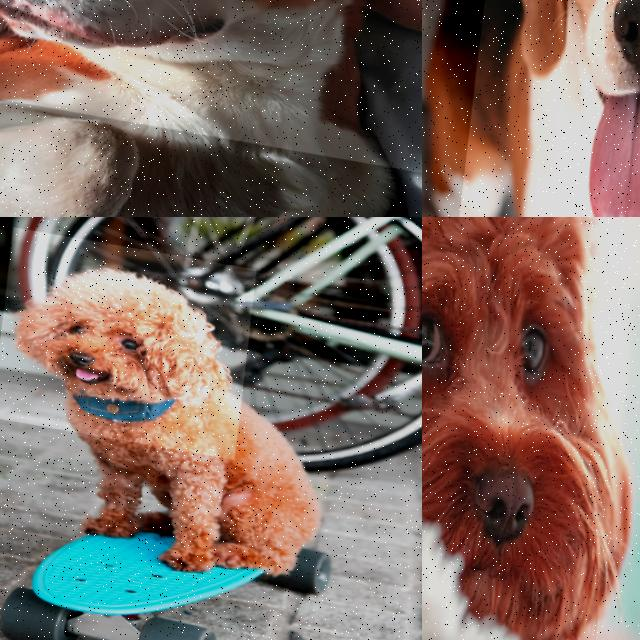beagle: (0, 0, 422, 169), (450, 0, 640, 217)
poodle: (422, 217, 640, 640), (0, 224, 257, 456)
